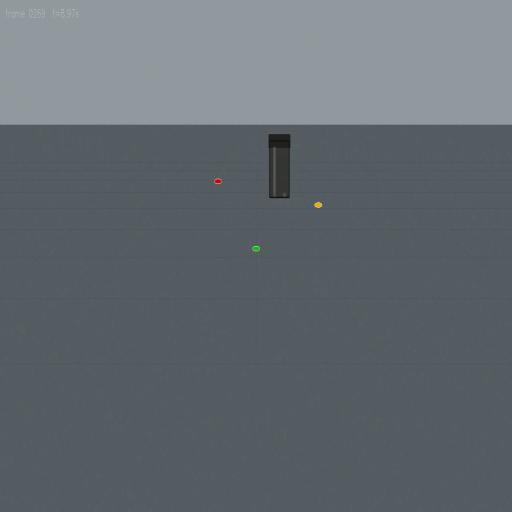bin: (268, 133, 291, 199)
